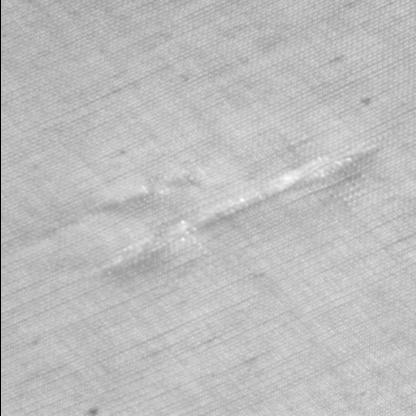thread error: (102, 142, 382, 280), (94, 162, 212, 216)
